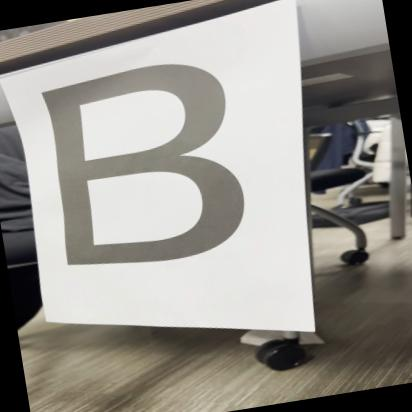seat: (18, 43, 275, 290)
